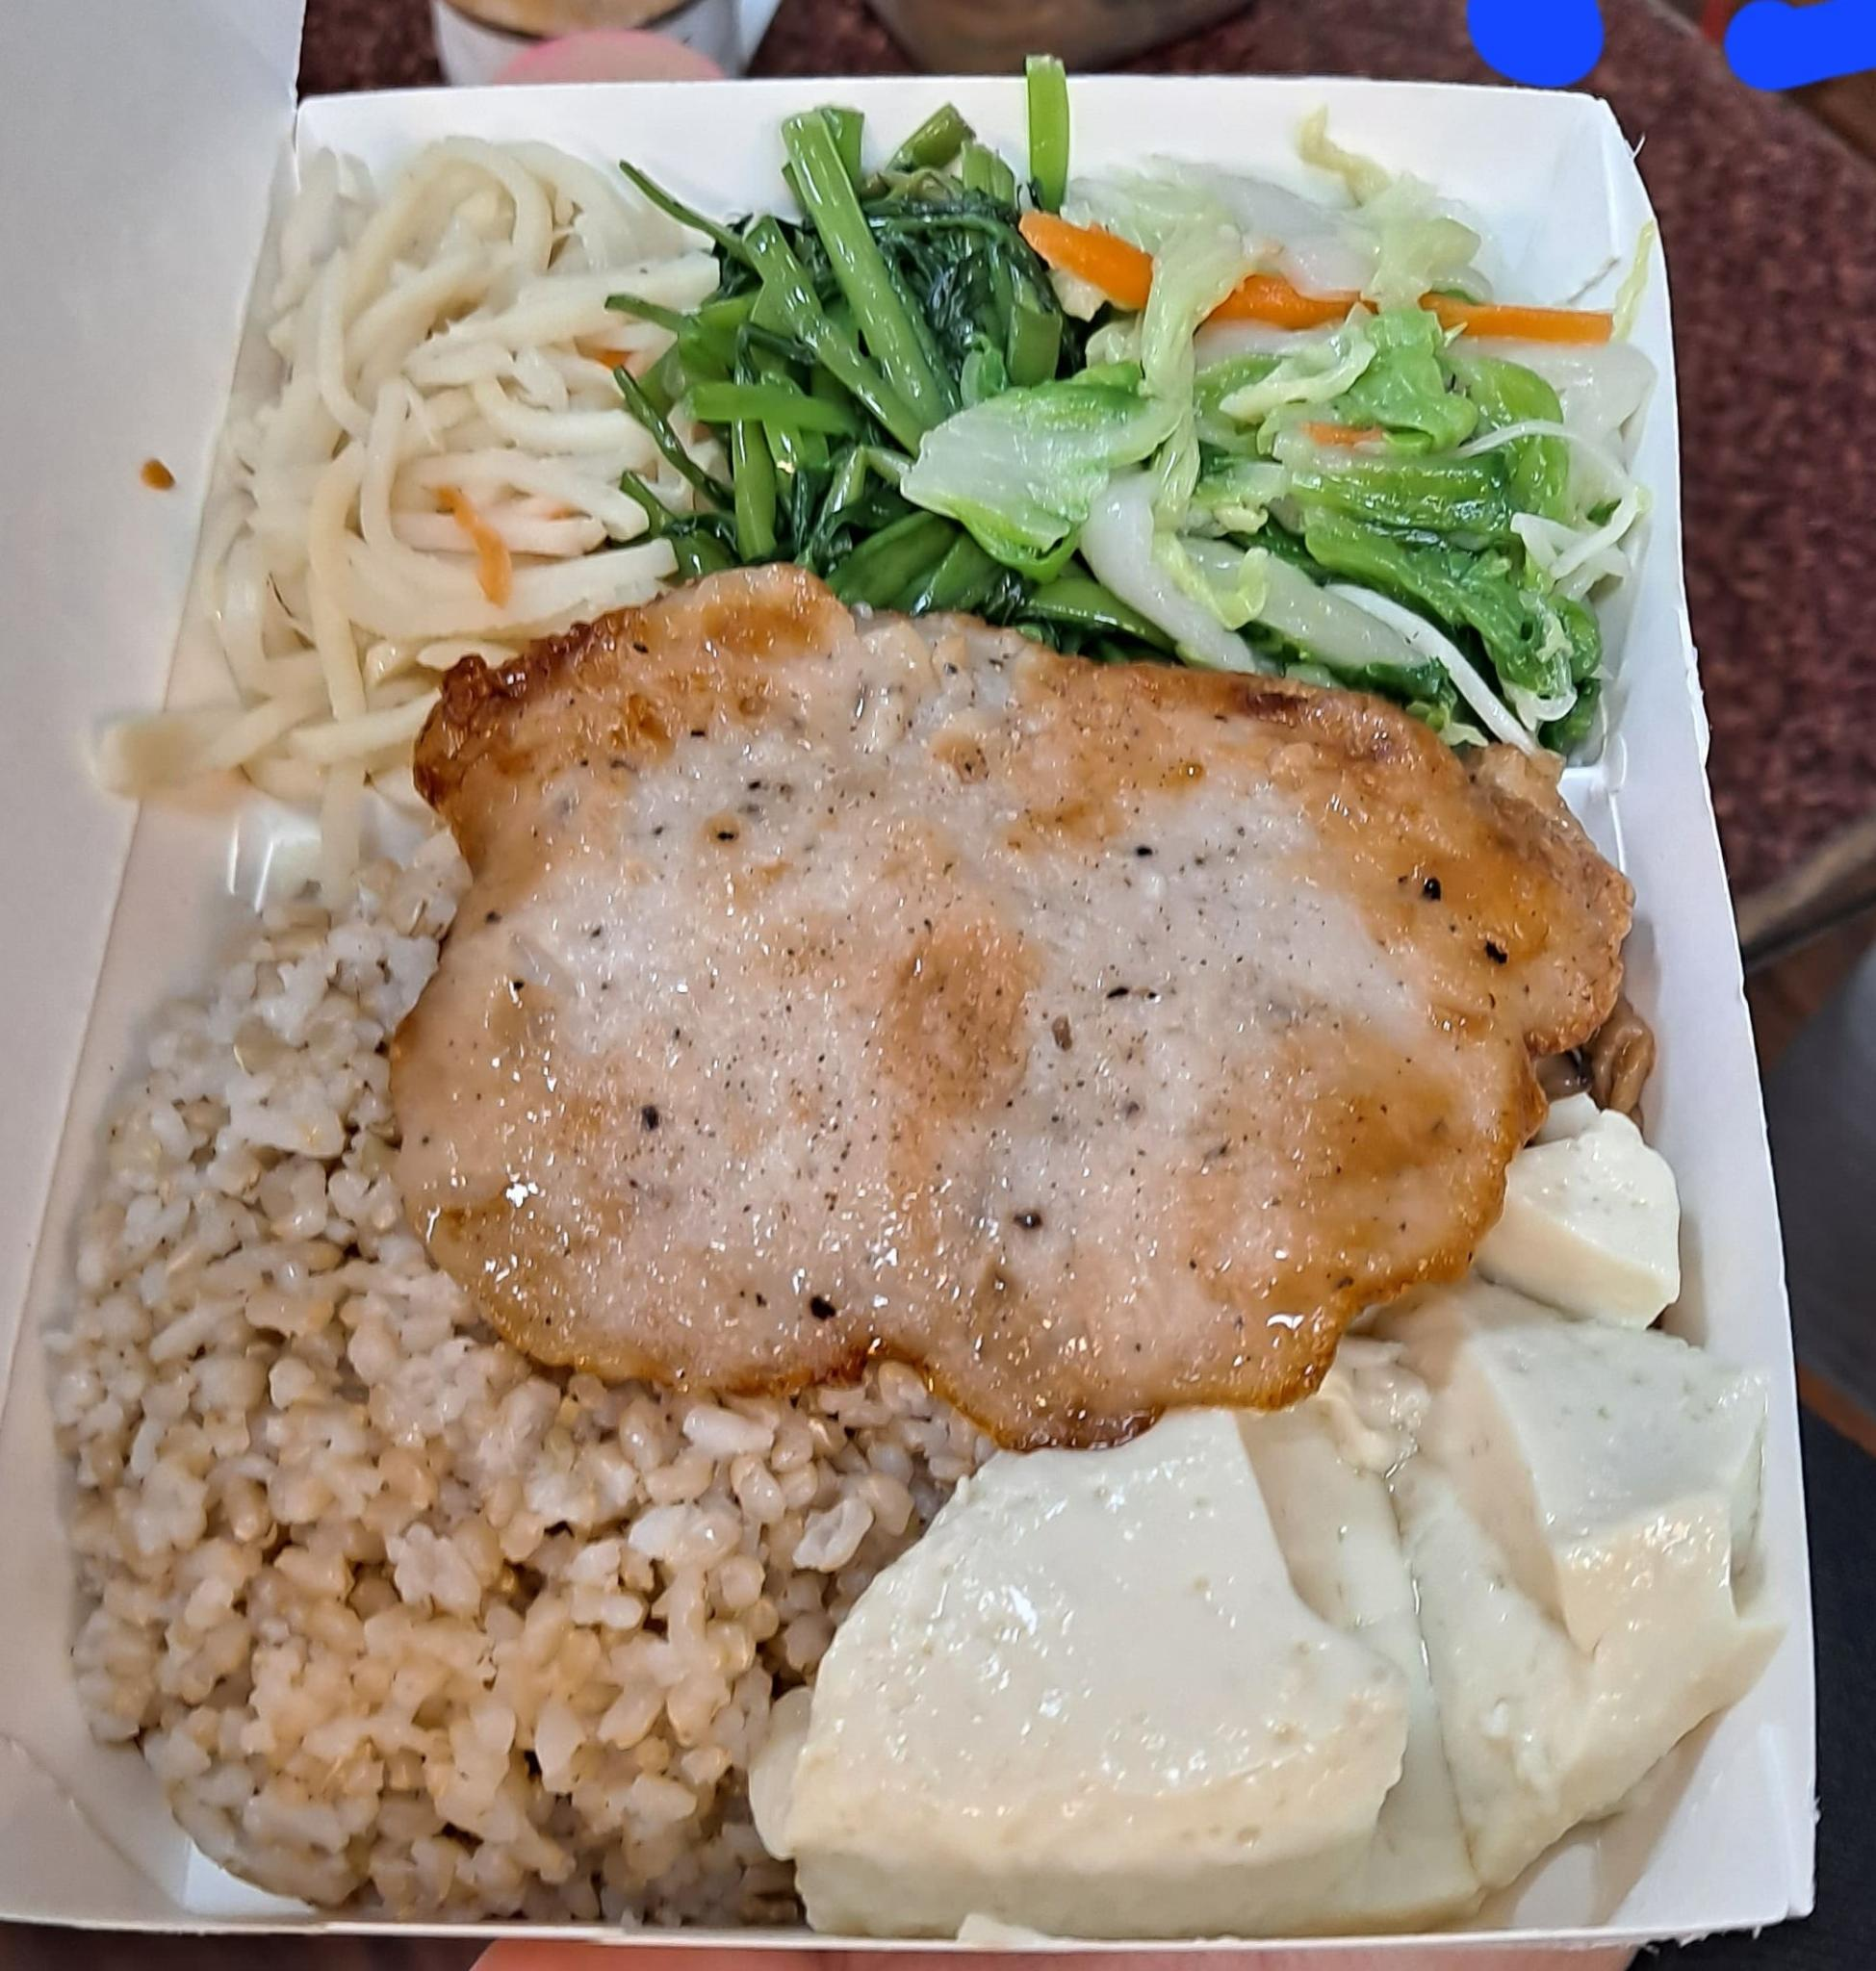big grilled chicken leg: (14, 42, 1876, 1971)
box: (63, 862, 933, 1906)
braised fish fillet: (732, 1119, 1800, 1929), (927, 132, 1612, 714), (171, 127, 718, 771), (655, 104, 1095, 630)
braised pork: (348, 547, 1633, 1413)
